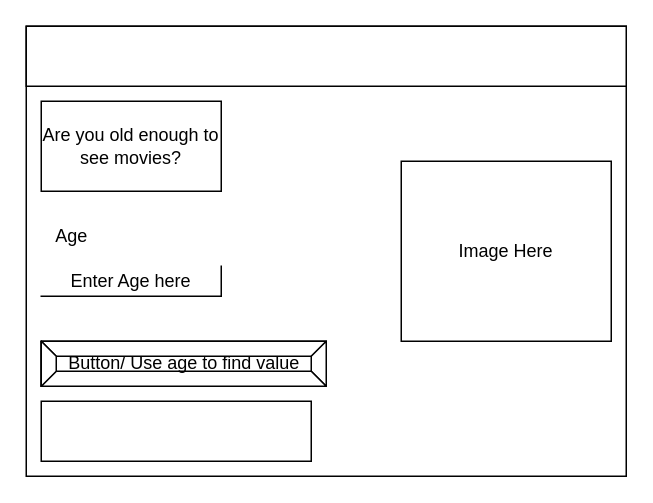
Some shapes in this 653 by 503 pixel diagram are drawn without their labels. The centre of each missing label's shape, as x and y in pixels:
"Are you hold enough to see movies?" goes at point (325, 55).
"Show results from javascript" goes at point (175, 430).
